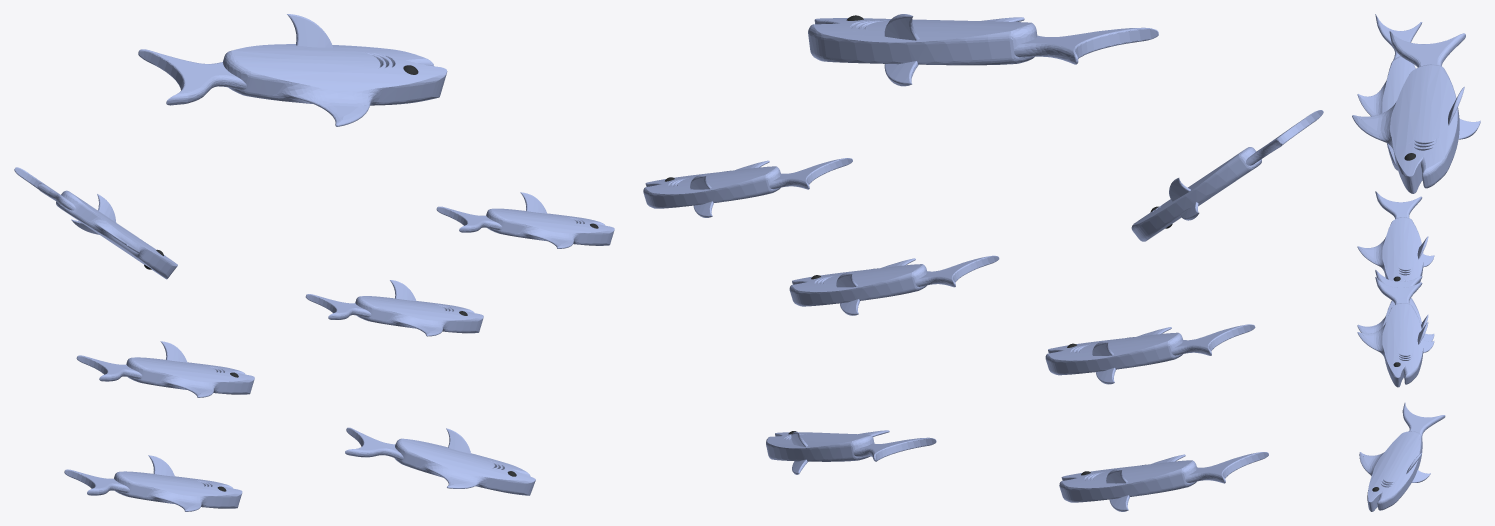
File: shark.obj
The picture shows the model from 3 angles, left to right: view 1: azimuth 30°, elevation 25°; view 2: azimuth 150°, elevation 25°; view 3: azimuth 270°, elevation 25°; orthographic projection. The views are drawn at different scales.
Parts seen in each view (by area): view 1: group_0_11452141; view 2: group_0_11452141; view 3: group_0_11452141, group_0_2829873.
Boxes of the visible parts, x1,y1,x2,y2 form: group_0_11452141: (14,14,614,511); group_0_11452141: (643,14,1323,511); group_0_11452141: (1352,14,1480,511); group_0_2829873: (1372,153,1415,491).
Bounding box in the file's own units: 167 × 130 × 42.17.
